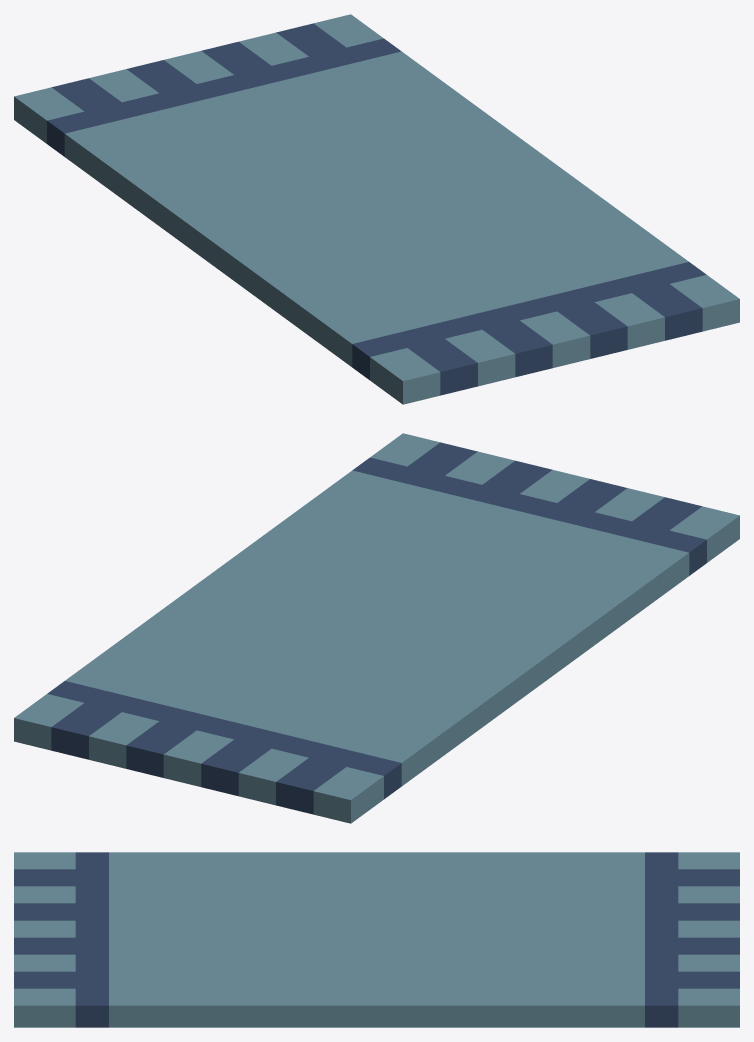
File: Towel_Blue_02.fbx
3 renders of one model, top to bottom at view 1: azimuth 30°, elevation 25°; view 2: azimuth 150°, elevation 25°; view 3: azimuth 270°, elevation 25°, orthographic. The views are drawn at different scales.
Parts seen in each view (by area): view 1: Towel_Blue_02; view 2: Towel_Blue_02; view 3: Towel_Blue_02.
Part boxes in pixels (bbox=[...]): Towel_Blue_02: bbox=[14, 14, 739, 404]; Towel_Blue_02: bbox=[14, 433, 739, 823]; Towel_Blue_02: bbox=[14, 852, 739, 1027].
Bounding box in the file's own units: 3 × 0.2 × 6.
